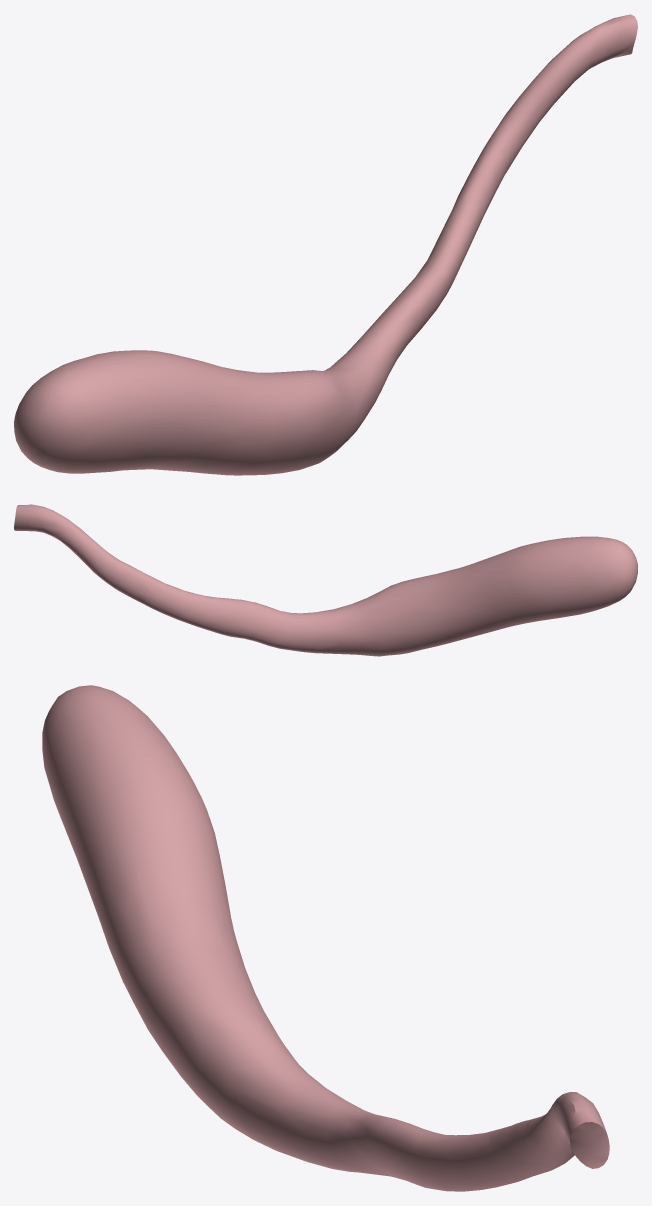
File: fma234985_mm3244m.glb
The picture shows the model from 3 angles, top to bottom: view 1: azimuth 30°, elevation 25°; view 2: azimuth 150°, elevation 25°; view 3: azimuth 270°, elevation 25°; orthographic projection. The views are drawn at different scales.
Visible parts, largest first — view 1: FMA234985_MM3244M; view 2: FMA234985_MM3244M; view 3: FMA234985_MM3244M.
Part boxes in pixels (left/top/right/bottom): FMA234985_MM3244M: left=14, top=14, right=637, bottom=475; FMA234985_MM3244M: left=14, top=504, right=637, bottom=656; FMA234985_MM3244M: left=42, top=685, right=609, bottom=1191.
Bounding box in the file's own units: 0.0311 × 0.00859 × 0.0155.
